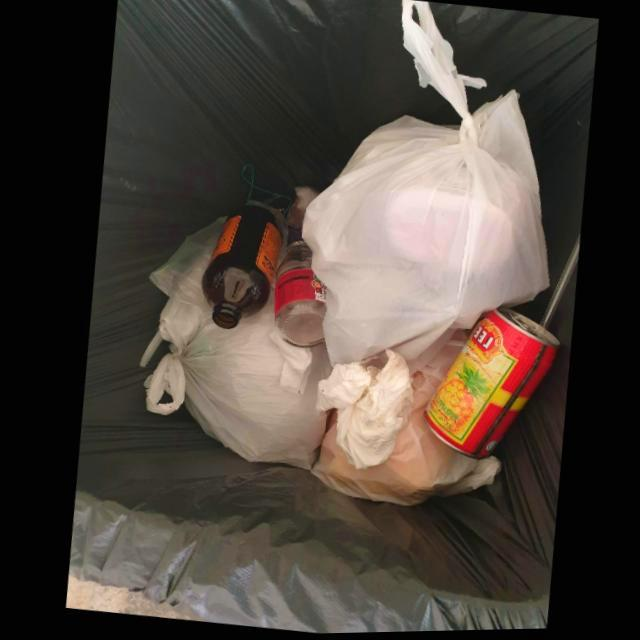aluminum: (421, 311, 558, 463)
glass_bottle: (198, 206, 281, 331), (270, 242, 324, 349)
paper: (312, 351, 410, 472)
plastic_bag: (298, 1, 547, 378), (136, 218, 329, 472)
